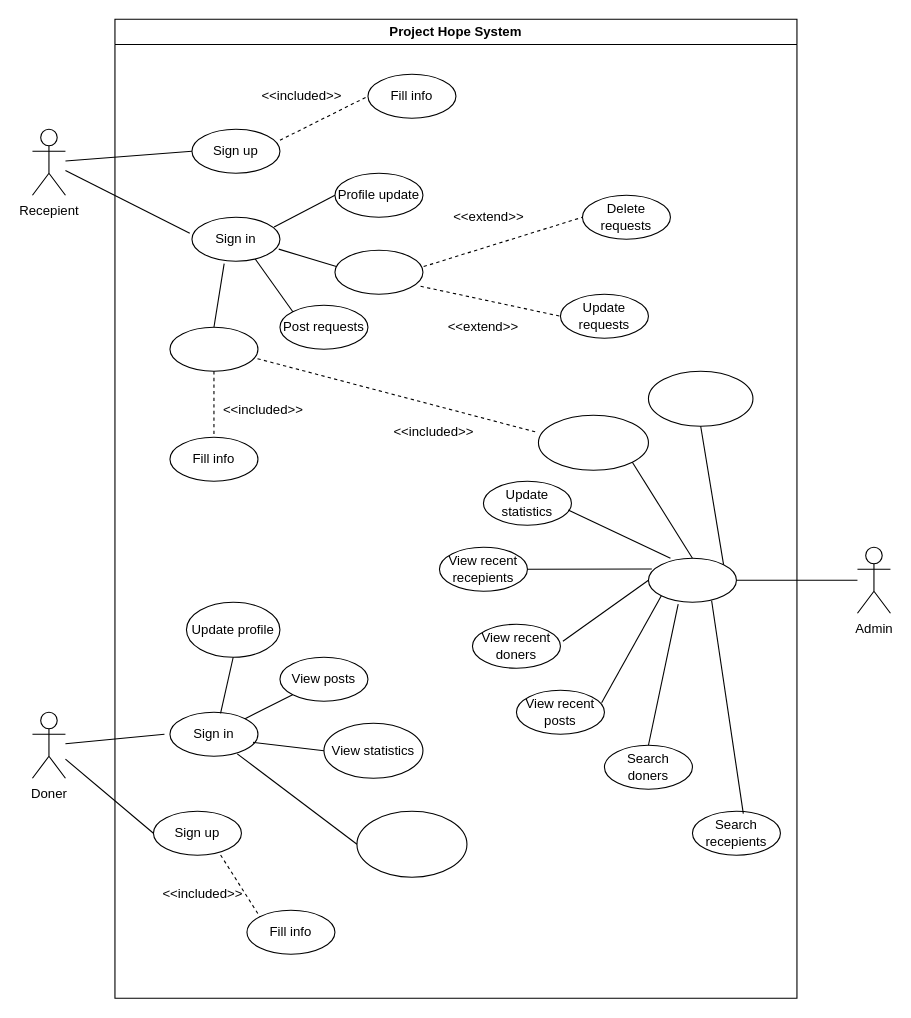
This 911x1018 diagram has some shape labels left out. The centre of each missing label's shape, as x and y in pixels:
"Check verification requests" belongs at point 700,398.
"Login" belongs at point 691,579.
"Request contact details" belongs at point 411,843.
"Request verification" belongs at point 213,348.
"Update verification requests" belongs at point 592,442.
"View requests" belongs at point 378,271.
